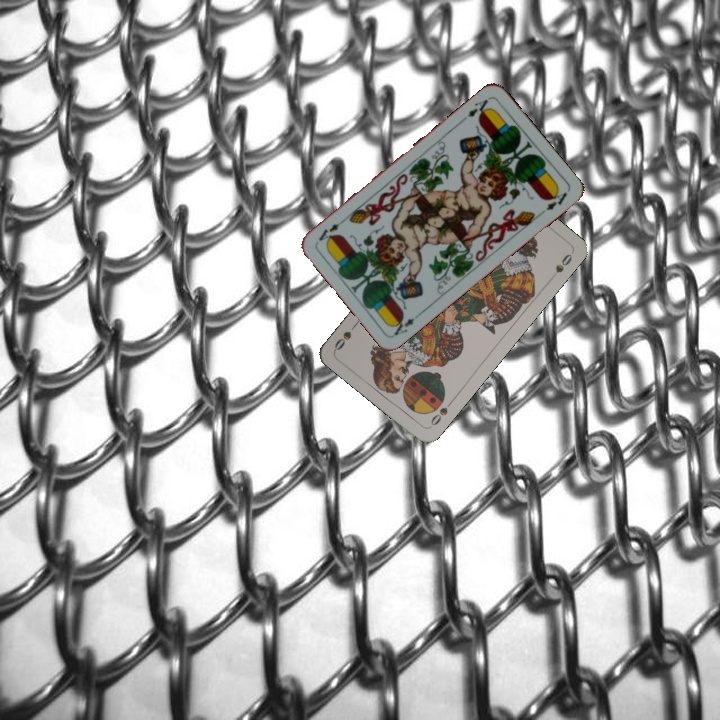EA: (387, 308, 424, 338), (458, 95, 493, 124)
SO: (426, 396, 456, 430)
